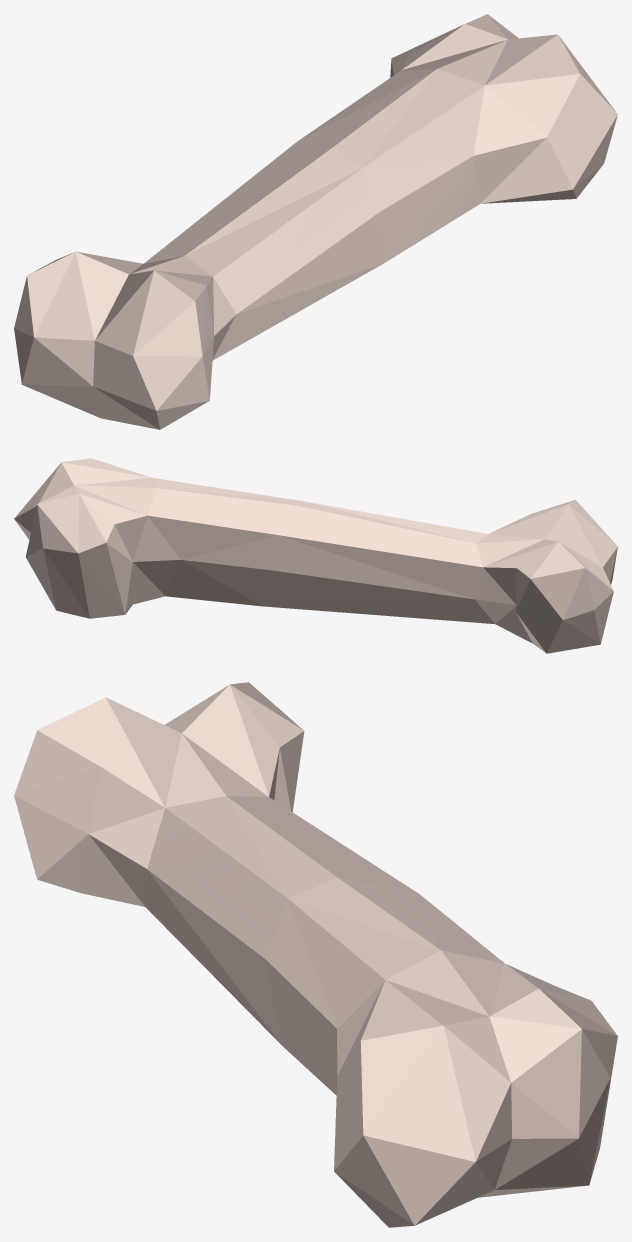
File: deadSkelly_bone.fbx
3 views of the same model, one above another, from view 1: azimuth 30°, elevation 25°; view 2: azimuth 150°, elevation 25°; view 3: azimuth 270°, elevation 25° (orthographic). The views are drawn at different scales.
Visible parts, largest first — view 1: deadSkelly_bone; view 2: deadSkelly_bone; view 3: deadSkelly_bone.
Part boxes in pixels (box(x1,y1,x2,y2)): deadSkelly_bone: box(14, 14, 617, 429); deadSkelly_bone: box(14, 458, 617, 653); deadSkelly_bone: box(14, 682, 617, 1227).
Bounding box in the file's own units: 0.5039 × 0.1231 × 0.2907.
